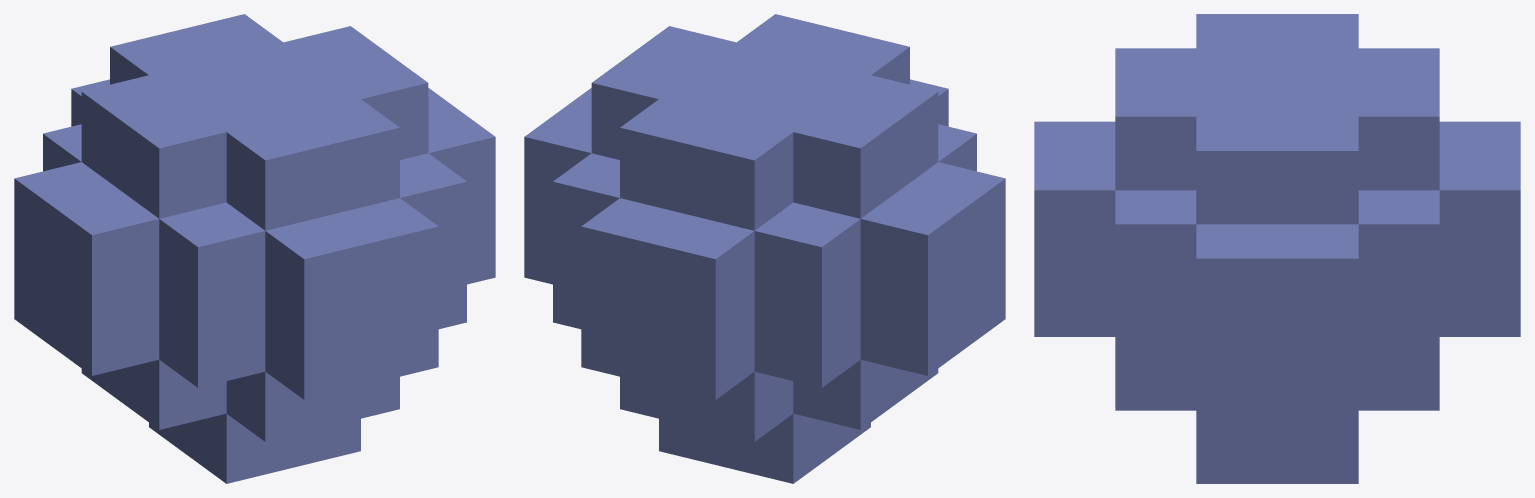
File: blue_gem.glb
3 renders of one model, left to right at view 1: azimuth 30°, elevation 25°; view 2: azimuth 150°, elevation 25°; view 3: azimuth 270°, elevation 25°, orthographic. The views are drawn at different scales.
Visible parts, largest first — view 1: Untitled; view 2: Untitled; view 3: Untitled.
Boxes of the visible parts, x1,y1,x2,y2 form: Untitled: [14, 14, 495, 483]; Untitled: [524, 14, 1005, 483]; Untitled: [1034, 14, 1520, 483].
Bounding box in the file's own units: 0.6 × 0.5 × 0.6.
Materials: 1 (1 with a texture image).
